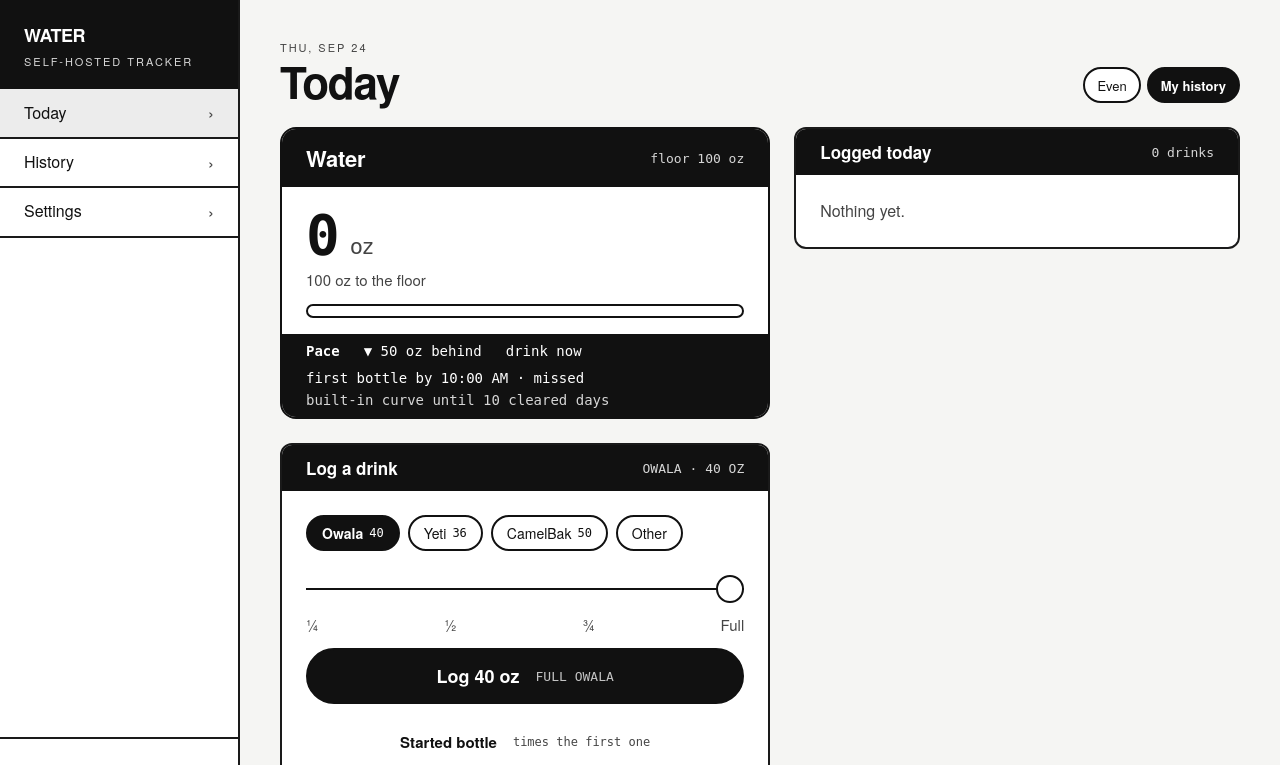
Log faster (v1.8) › refill: one tap logs the last drink again, same bottle and amount, now
The image size is (1280, 765).
Set the slider to "1": (455, 589) [306, 567, 744, 611]
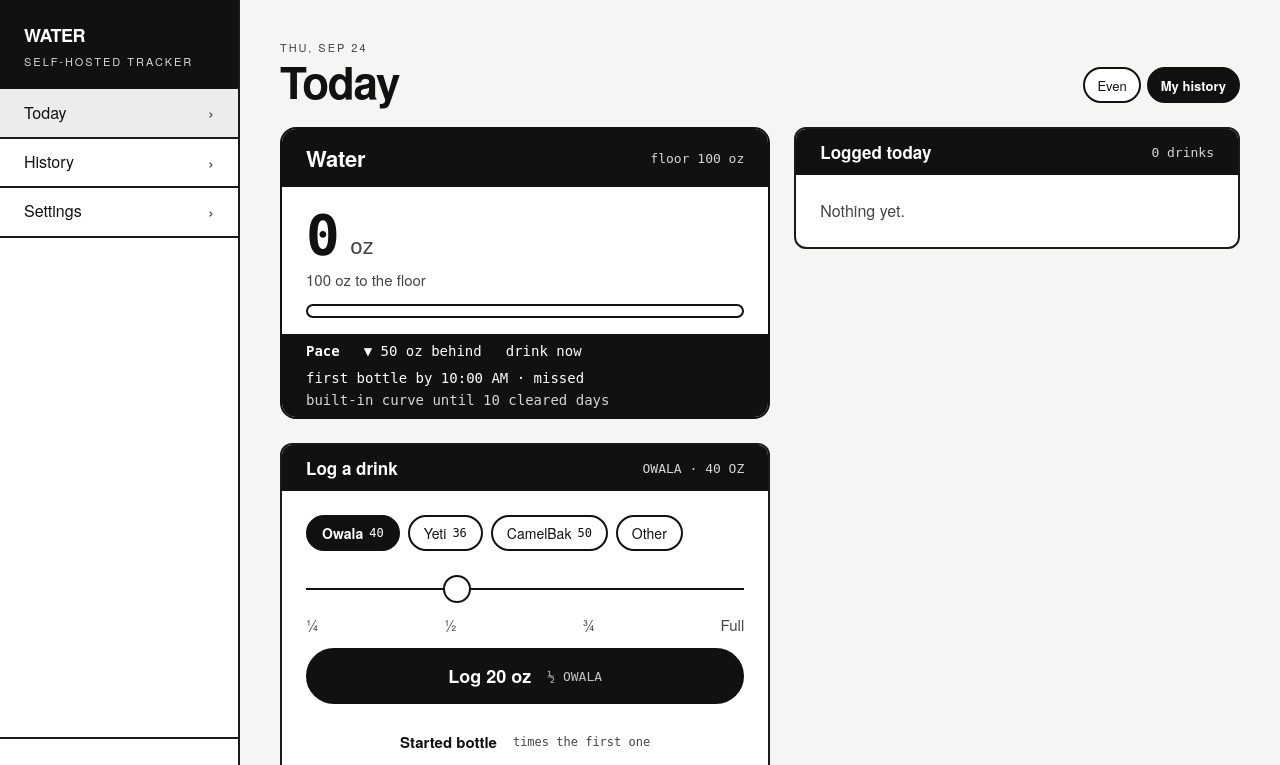
Click the button "Log 20 oz ½ Owala": (525, 676) [306, 648, 744, 704]
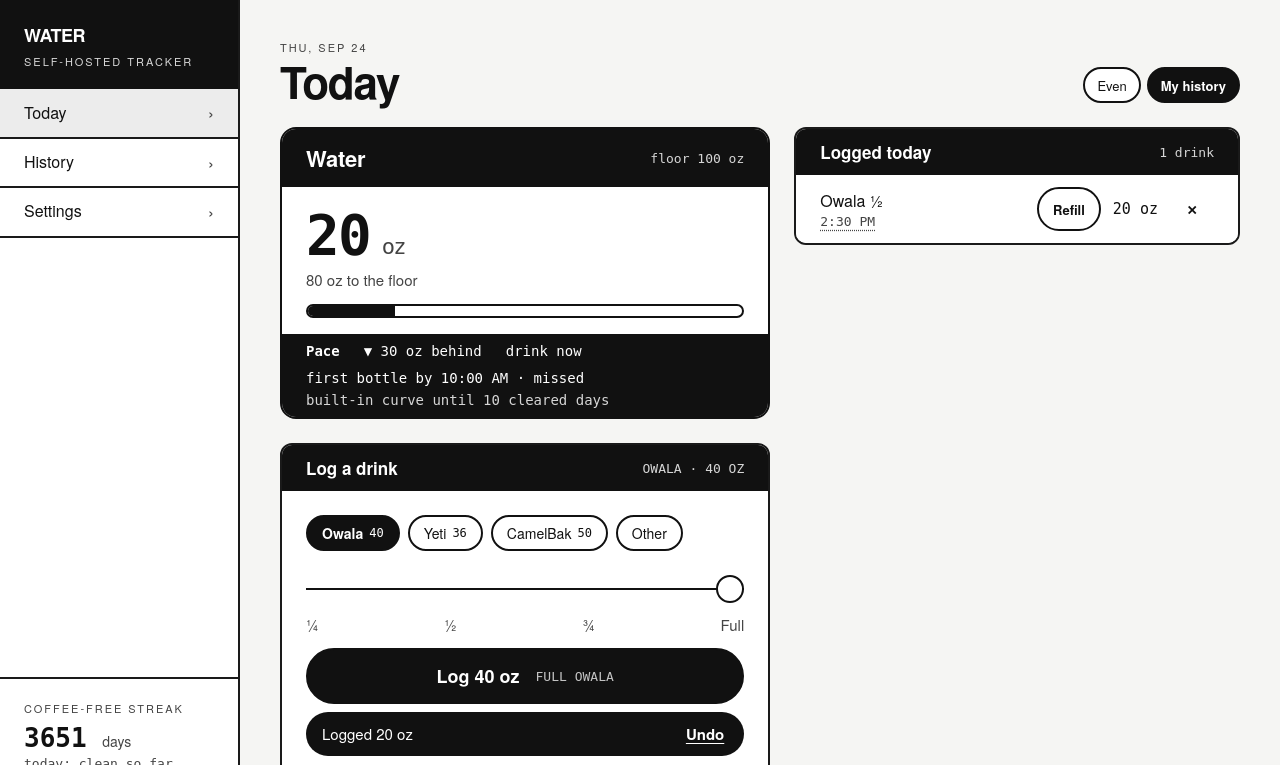
Click the button with aria-label "Refill 20 oz": (1069, 210) [1037, 188, 1101, 232]
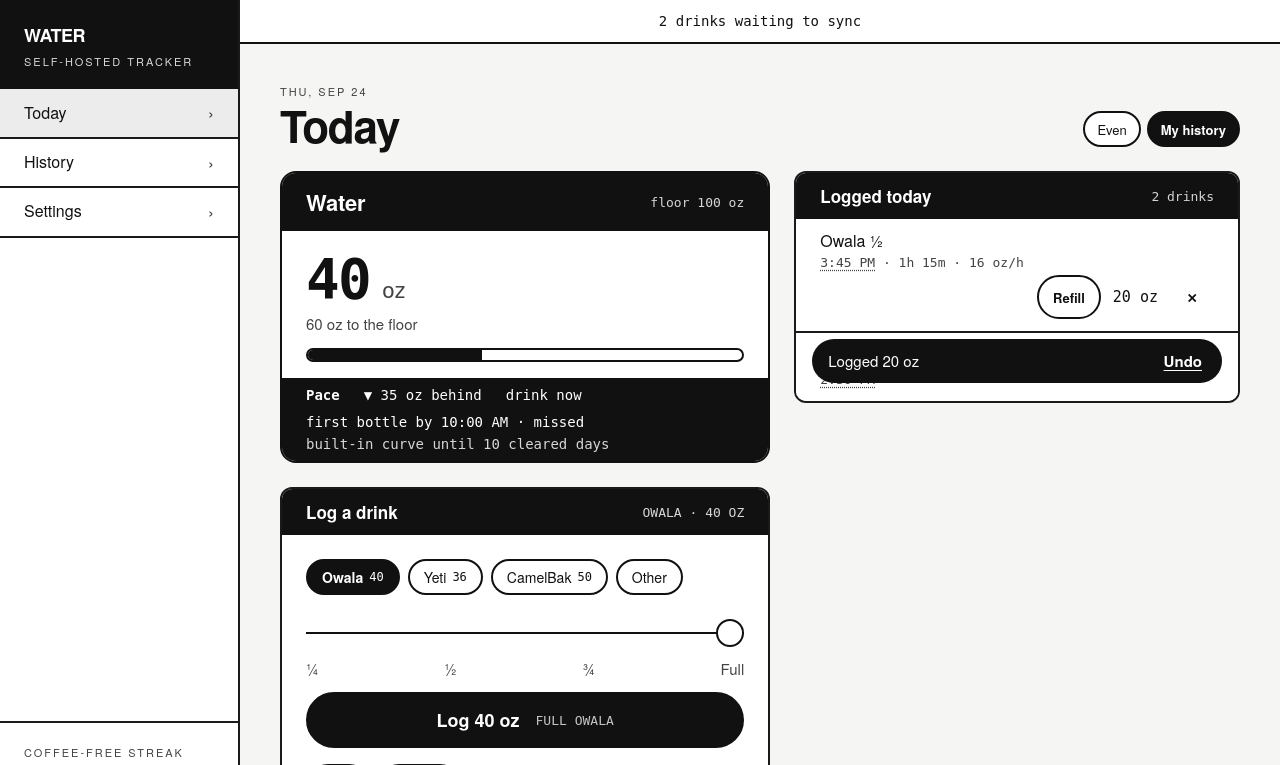
expect the message with class "undo-bar" shows "Logged 20 oz": met, box [828, 350, 919, 371]
expect the number of buttons "Refill" is 1: met, box [1037, 275, 1101, 319]
